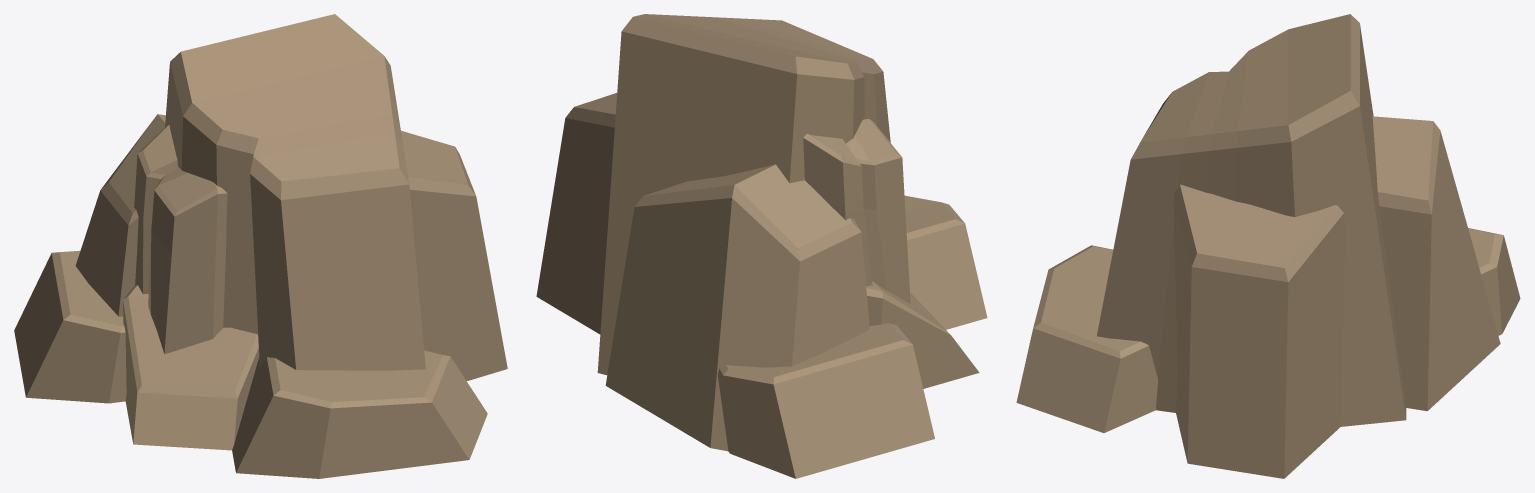
The model's file is env_rock.fbx.
3 renders of one model, left to right at view 1: azimuth 30°, elevation 25°; view 2: azimuth 150°, elevation 25°; view 3: azimuth 270°, elevation 25°, orthographic. The views are drawn at different scales.
Visible parts, largest first — view 1: env_rock; view 2: env_rock; view 3: env_rock.
Part boxes in pixels (box(x1,y1,x2,y2)): env_rock: box(14, 14, 507, 478); env_rock: box(536, 14, 987, 478); env_rock: box(1016, 14, 1520, 478).
Bounding box in the file's own units: 29.93 × 21.66 × 30.32.
